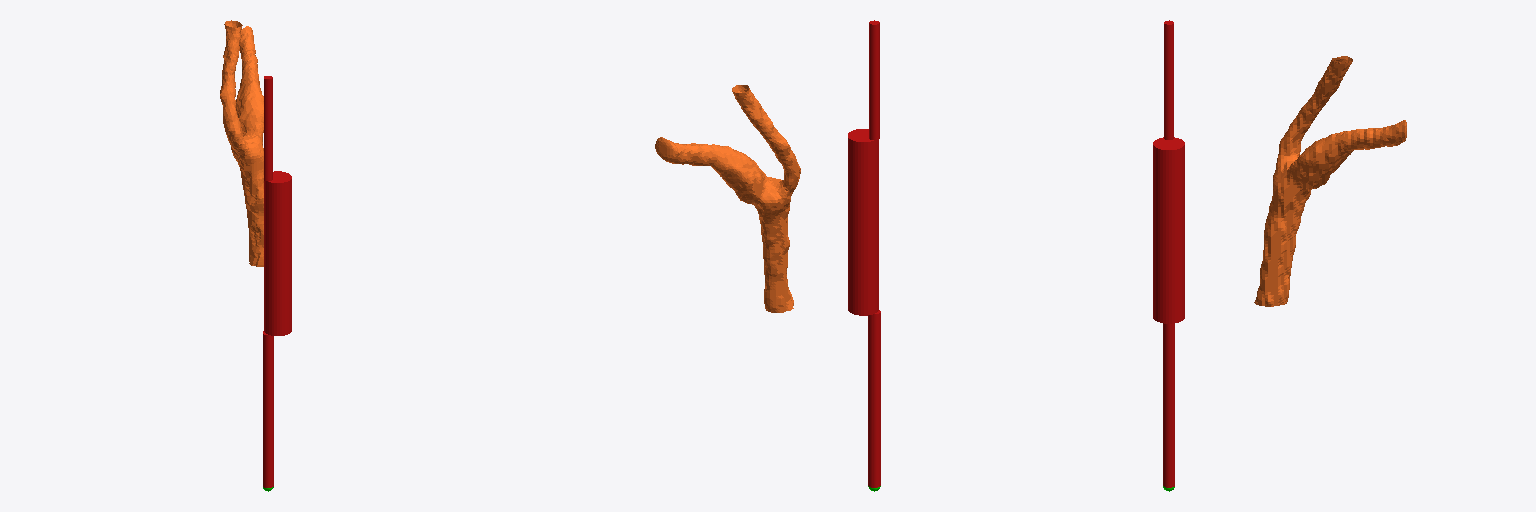
The robot description file, URDF, robot "vascular_network":
<?xml version="1.0"?>
<robot name="vascular_network">

  <!-- Base Link (Femoral Entry Point) -->
  <link name="base_link">
    <visual>
      <origin xyz="0 0 0" rpy="0 0 0"/>
      <geometry><sphere radius="0.01"/></geometry>
      <material name="entry_point"><color rgba="0 1 0 1"/></material>
    </visual>
  </link>

  <!-- Femoral Artery -->
  <joint name="j_femoral" type="fixed">
    <parent link="base_link"/>
    <child link="femoral_artery"/>
    <origin xyz="0 0 0.15" rpy="0 0 0"/>
  </joint>
  <link name="femoral_artery">
    <visual>
      <origin xyz="0 0 0" rpy="0 0 0"/>
      <geometry><cylinder length="0.3" radius="0.01"/></geometry>
      <material name="vessel"><color rgba="0.8 0.1 0.1 0.5"/></material>
    </visual>
  </link>
  <gazebo reference="femoral_artery">
    <material>Gazebo/Red</material>
  </gazebo>

  <!-- Aorta -->
  <joint name="j_aorta" type="fixed">
    <parent link="femoral_artery"/>
    <child link="aorta"/>
    <origin xyz="0.02 0 0.3" rpy="0 0 0"/>
  </joint>
  <link name="aorta">
    <visual>
      <origin xyz="0 0 0" rpy="0 0 0"/>
      <geometry><cylinder length="0.3" radius="0.025"/></geometry>
      <material name="vessel"/>
    </visual>
  </link>
  <gazebo reference="aorta">
    <material>Gazebo/Red</material>
  </gazebo>

  <!-- Common Carotid Artery (Lower) -->
  <joint name="j_common_carotid" type="fixed">
    <parent link="aorta"/>
    <child link="common_carotid"/>
    <origin xyz="-0.02 0 0.25" rpy="0 0 0"/>
  </joint>
  <link name="common_carotid">
    <visual>
      <origin xyz="0 0 0" rpy="0 0 0"/>
      <geometry><cylinder length="0.2" radius="0.008"/></geometry>
      <material name="vessel"/>
    </visual>
  </link>
  <gazebo reference="common_carotid">
    <material>Gazebo/Red</material>
  </gazebo>

  <!-- Patient Specific Carotid Bifurcation Mesh -->
  <joint name="j_mesh" type="fixed">
    <parent link="common_carotid"/>
    <child link="carotid_mesh"/>
    <!-- Positioned precisely so the base of the mesh aligns with the top of the cylinder -->
    <origin xyz="0.0 -0.05 0.08" rpy="-1.5708 0 0"/>
  </joint>
  <link name="carotid_mesh">
    <visual>
      <origin xyz="0 0 0" rpy="0 0 0"/>
      <geometry>
        <mesh filename="package://carotid_robot_description/meshes/carotid.stl" scale="0.005 0.005 0.005"/>
      </geometry>
      <material name="mesh_color"><color rgba="1.0 0.5 0.2 0.8"/></material>
    </visual>
  </link>
  <gazebo reference="carotid_mesh">
    <material>Gazebo/Orange</material>
  </gazebo>

</robot>

--- Render facts (derived) ---
The picture shows the robot from 3 angles, left to right: view 1: azimuth 30°, elevation 25°; view 2: azimuth 150°, elevation 25°; view 3: azimuth 270°, elevation 25°; orthographic projection.
Robot: vascular_network — 5 links, 4 joints (4 fixed); root link base_link; default pose: all joints at 0.
Visible links, largest first — view 1: carotid_mesh, aorta, femoral_artery, common_carotid; view 2: carotid_mesh, aorta, femoral_artery, common_carotid; view 3: carotid_mesh, aorta, femoral_artery, common_carotid.
Link boxes in pixels (x1=…): carotid_mesh: x1=220, y1=20, x2=263, y2=266; aorta: x1=264, y1=171, x2=291, y2=335; femoral_artery: x1=263, y1=331, x2=273, y2=487; common_carotid: x1=264, y1=76, x2=272, y2=181; carotid_mesh: x1=655, y1=85, x2=800, y2=312; aorta: x1=848, y1=129, x2=878, y2=315; femoral_artery: x1=868, y1=310, x2=880, y2=487; common_carotid: x1=869, y1=20, x2=879, y2=139; carotid_mesh: x1=1254, y1=56, x2=1406, y2=306; aorta: x1=1153, y1=137, x2=1184, y2=323; femoral_artery: x1=1163, y1=323, x2=1174, y2=487; common_carotid: x1=1164, y1=20, x2=1173, y2=139.
Size in the robot's own frame: 0.1933 by 0.3978 by 0.81 metres.
Meshes: 1 distinct files referenced, 1 mesh visuals loaded (1 binary STL).
